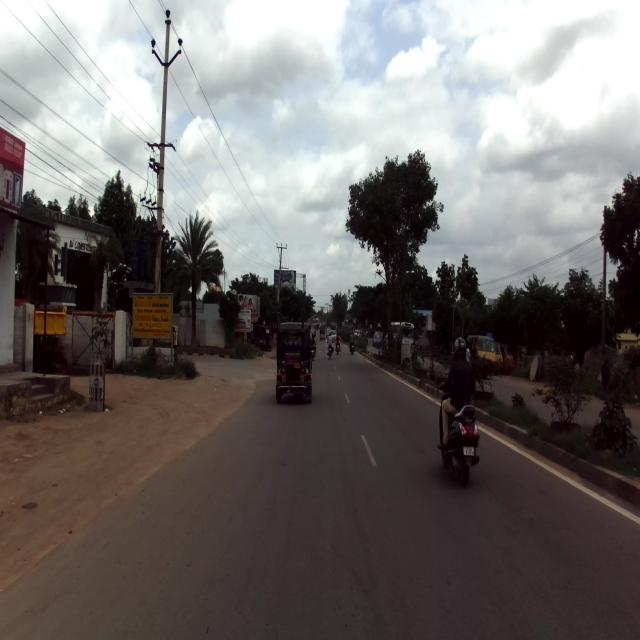scooter: (436, 377, 480, 486)
